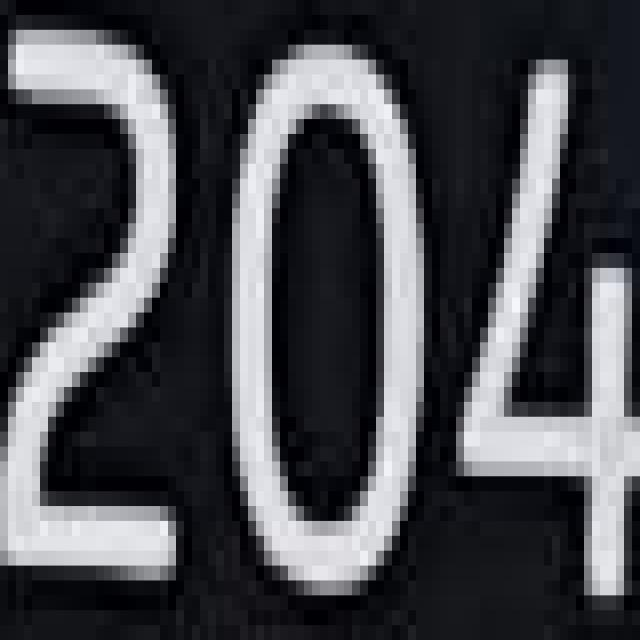character: (226, 30, 430, 610), (452, 39, 640, 626), (0, 10, 188, 594)
